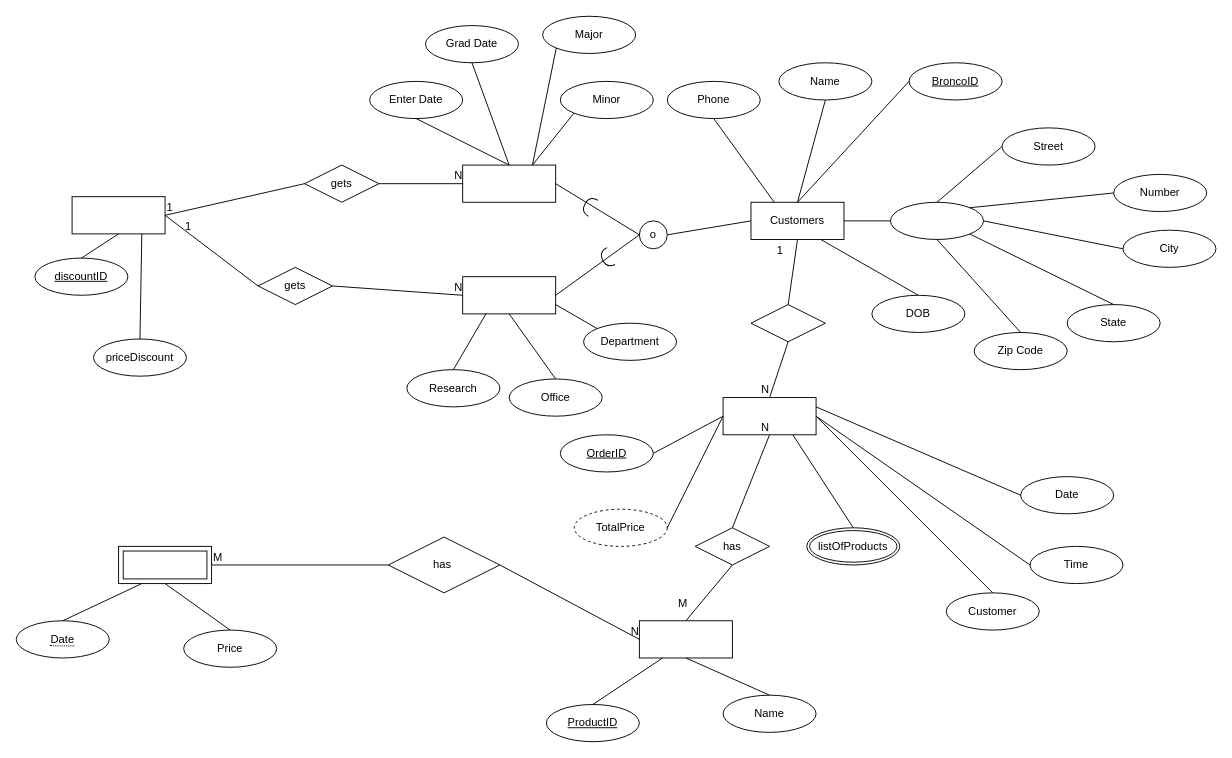
The diagram is 1232 pixels wide and 758 high, and some of its shapes have lost their labels. The centre of each missing label's shape, as x and y in pixels:
"address" goes at point 936,220.
"Discount Scheme" goes at point 118,215.
"Historical Price" goes at point 165,564.
"Orders" goes at point 769,416.
"placed" goes at point 787,323.
"Product" goes at point 685,639.
"Professor" goes at point 509,295.
"Student" goes at point 509,183.
